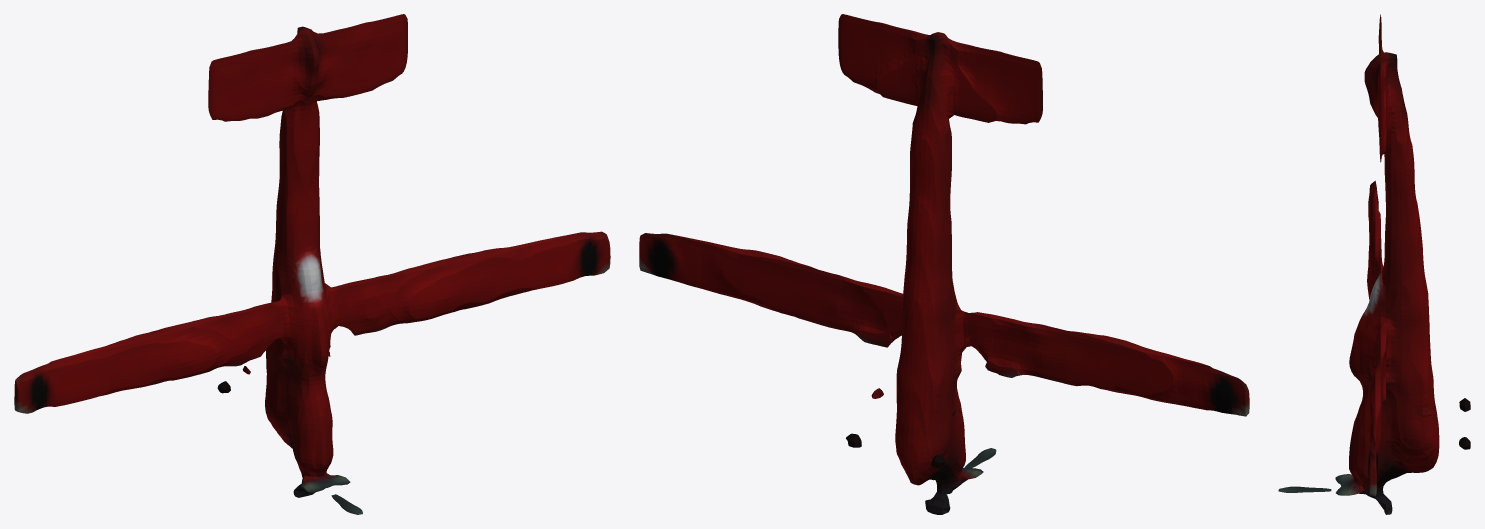
File: AirPlane_1749651294.obj
The picture shows the model from 3 angles, left to right: view 1: azimuth 30°, elevation 25°; view 2: azimuth 150°, elevation 25°; view 3: azimuth 270°, elevation 25°; orthographic projection. The views are drawn at different scales.
Size of the model in its own units: 1.98 by 1.49 by 0.5659.
